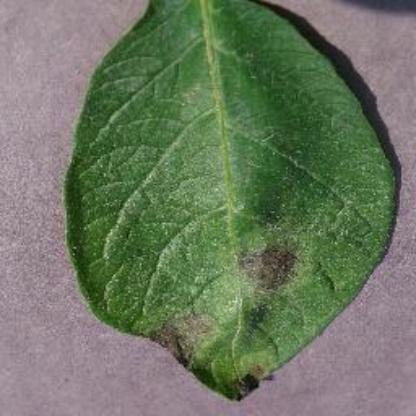Late-Blight: (34, 0, 407, 402)
